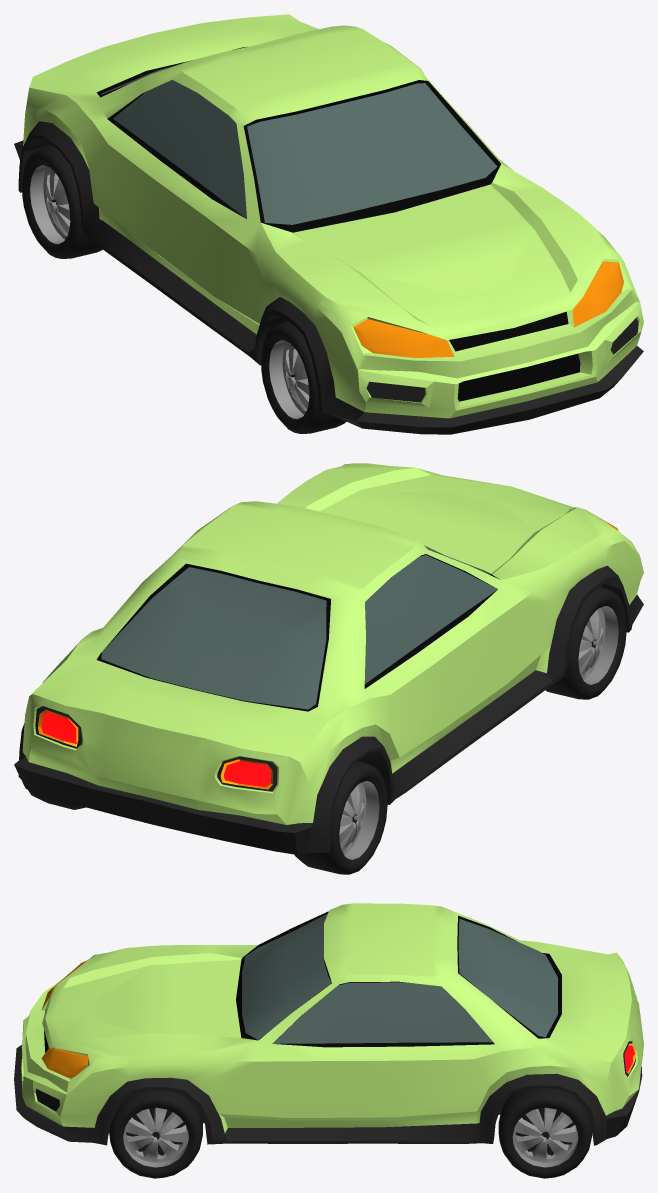
Rendered from slviya.fbx.
3 views of the same model, one above another, from view 1: azimuth 30°, elevation 25°; view 2: azimuth 150°, elevation 25°; view 3: azimuth 270°, elevation 25° (orthographic). The views are drawn at different scales.
Visible parts, largest first — view 1: silvia, race1.002, race1.001; view 2: silvia, race1.002, race1.001; view 3: silvia, race1.003, race1.004.
Boxes of the visible parts, x1,y1,x2,y2 form: silvia: [14, 14, 643, 434]; race1.002: [22, 145, 102, 258]; race1.001: [261, 321, 346, 433]; silvia: [14, 463, 643, 854]; race1.002: [294, 761, 387, 874]; race1.001: [545, 587, 626, 699]; silvia: [14, 903, 643, 1145]; race1.003: [498, 1088, 592, 1178]; race1.004: [109, 1091, 202, 1178].
Size of the model in its own units: 723 by 491 by 1535.
